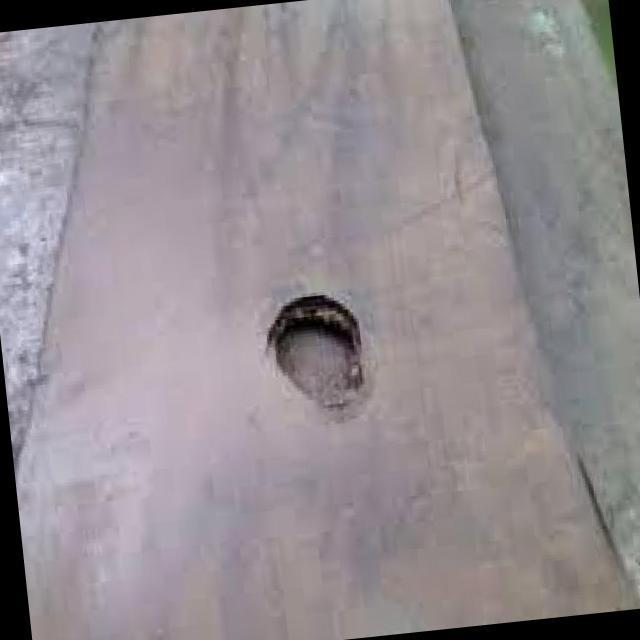Hole: (256, 288, 371, 419)
